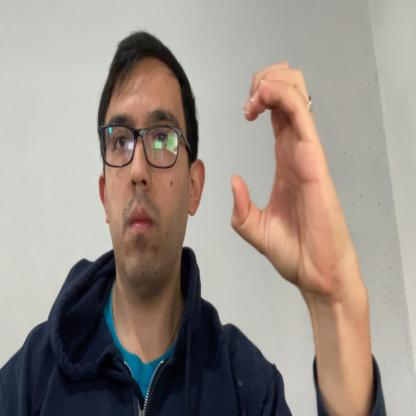C: (229, 61, 346, 292)
